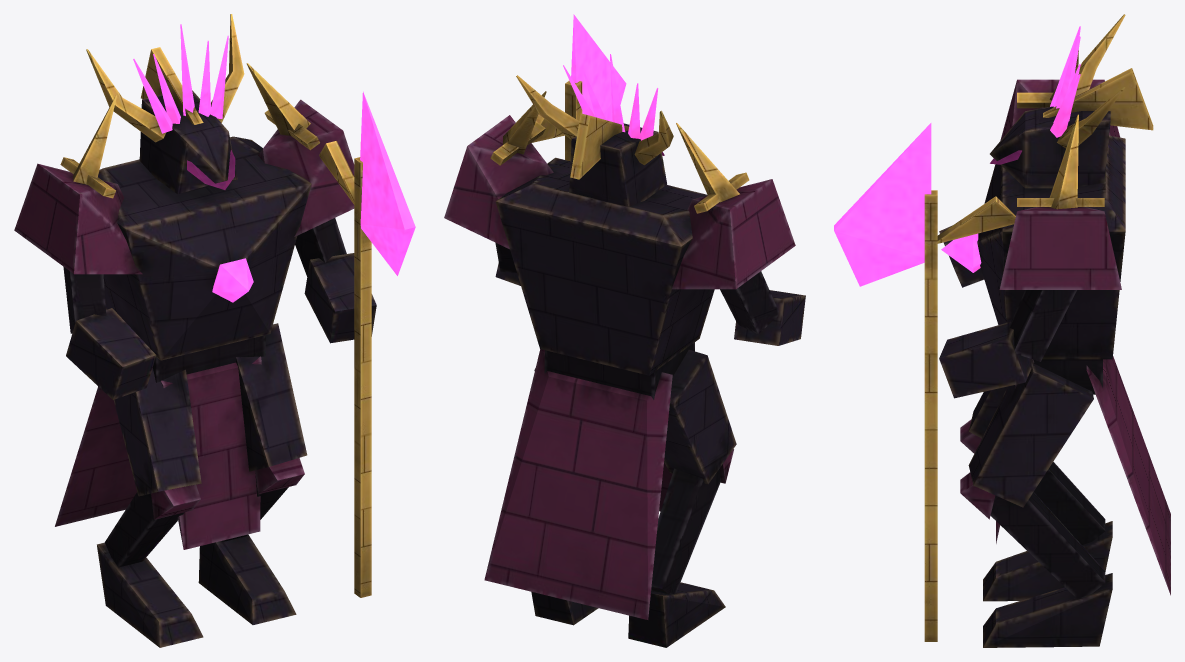
Rendered from e_warlord.glb.
The picture shows the model from 3 angles, left to right: view 1: azimuth 30°, elevation 25°; view 2: azimuth 150°, elevation 25°; view 3: azimuth 270°, elevation 25°; orthographic projection. The views are drawn at different scales.
Visible parts, largest first — view 1: e_warlord; view 2: e_warlord; view 3: e_warlord.
Boxes of the visible parts, box(x1,y1,x2,y2) form: e_warlord: box(14, 14, 415, 647); e_warlord: box(444, 14, 805, 647); e_warlord: box(834, 14, 1170, 647).
Size of the model in its own units: 1.66 by 3.1 by 1.61.
1 material, 1 textured.
